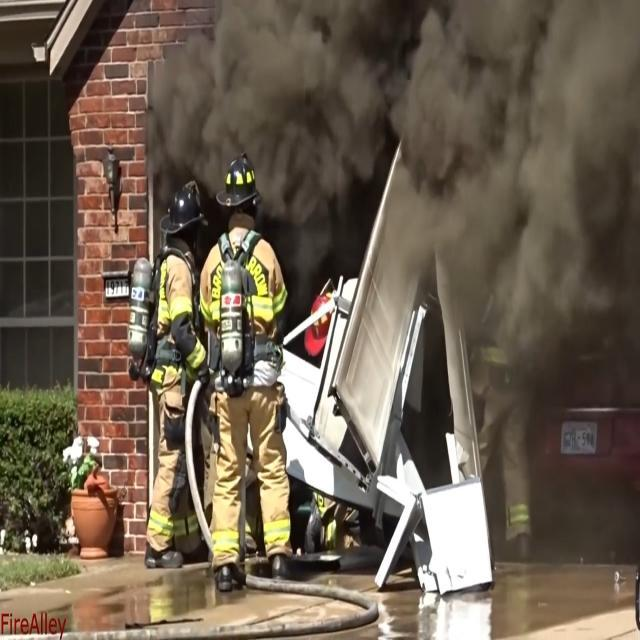Smoke: (444, 20, 633, 327), (179, 46, 403, 174)
